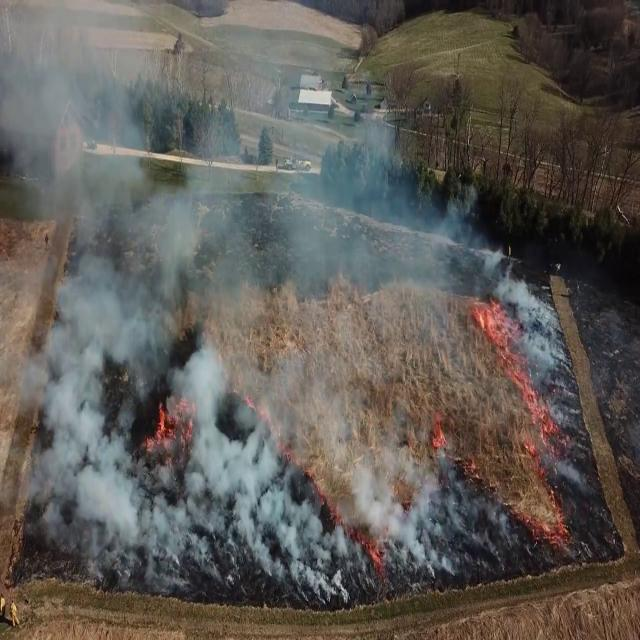Fire: (471, 298, 514, 362)
Smoke: (1, 12, 449, 596)
